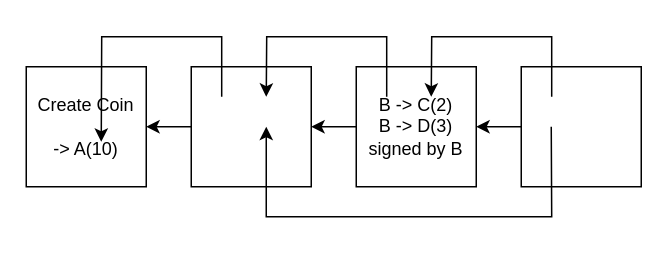
Image size: 668x255. Some labels were removed from this diagram. The shapes that lost their labels are listed below. From the top down, each one's centre as x and y in pixels, then its label:
[250,126]: A -> B(5) A -> C(5) signed by A
[580,126]: C -> E(7) signed by C
